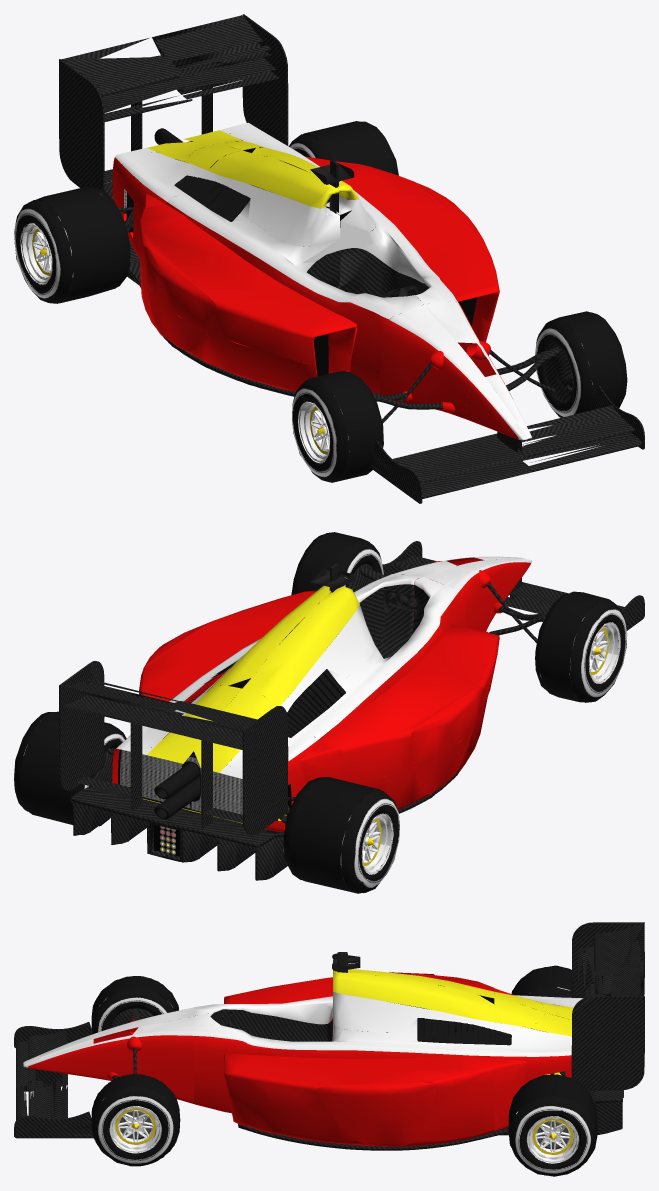
File: open-wheeler.glb
3 views of the same model, one above another, from view 1: azimuth 30°, elevation 25°; view 2: azimuth 150°, elevation 25°; view 3: azimuth 270°, elevation 25° (orthographic). The views are drawn at different scales.
Parts seen in each view (by area): view 1: door.R, roof, door.L, wheel.rear.R, nose.R, wheel.front.R, wheel.front.L, deck, nose.L, fender.R, bonnet, tail.L (+5 smaller); view 2: door.R, roof, door.L, wheel.rear.R, wheel.front.R, tail.R, tail.L, quarter.R, wheel.rear.L, deck, wheel.front.L, quarter.L (+4 smaller); view 3: door.L, roof, door.R, wheel.rear.L, wheel.front.L, nose.L, fender.L, deck, quarter.L, tail.L, wheel.front.R, nose.R (+3 smaller).
Boxes of the visible parts, bbox=[...] form: door.R: bbox=[59, 59, 423, 396]; roof: bbox=[59, 14, 375, 246]; door.L: bbox=[243, 15, 499, 356]; wheel.rear.R: bbox=[14, 186, 130, 303]; nose.R: bbox=[346, 377, 531, 503]; wheel.front.R: bbox=[292, 371, 383, 482]; wheel.front.L: bbox=[535, 311, 627, 417]; deck: bbox=[100, 72, 316, 283]; nose.L: bbox=[485, 374, 644, 472]; fender.R: bbox=[375, 320, 470, 422]; bonnet: bbox=[355, 301, 559, 421]; tail.L: bbox=[152, 15, 272, 136]; door.R: bbox=[244, 563, 499, 813]; roof: bbox=[59, 567, 375, 749]; door.L: bbox=[58, 563, 422, 749]; wheel.rear.R: bbox=[283, 777, 399, 893]; wheel.front.R: bbox=[535, 591, 627, 702]; tail.R: bbox=[159, 710, 276, 880]; tail.L: bbox=[58, 682, 180, 858]; quarter.R: bbox=[163, 740, 344, 875]; wheel.rear.L: bbox=[14, 711, 126, 826]; deck: bbox=[87, 692, 317, 829]; wheel.front.L: bbox=[291, 532, 383, 595]; quarter.L: bbox=[19, 718, 200, 840]; door.L: bbox=[194, 952, 644, 1150]; roof: bbox=[332, 922, 644, 1033]; door.R: bbox=[194, 922, 644, 1041]; wheel.rear.L: bbox=[508, 1074, 597, 1176]; wheel.front.L: bbox=[89, 1074, 180, 1166]; nose.L: bbox=[14, 1039, 93, 1138]; fender.L: bbox=[93, 1035, 194, 1103]; deck: bbox=[494, 935, 595, 1133]; quarter.L: bbox=[494, 1050, 595, 1138]; tail.L: bbox=[595, 960, 644, 1135]; wheel.front.R: bbox=[89, 976, 178, 1034]; nose.R: bbox=[14, 1021, 93, 1091].
Bounding box in the file's own units: 2.81 × 1.5 × 5.4.
Materials: 10 (7 with a texture image).
